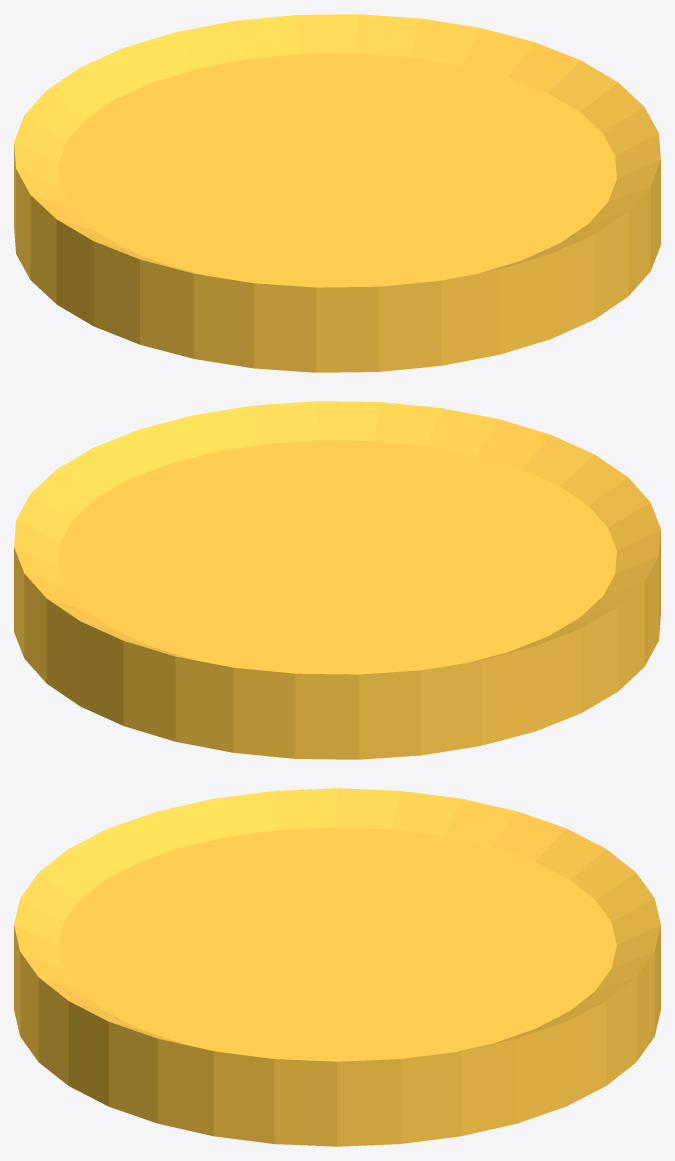
The model's file is Coin.glb.
The picture shows the model from 3 angles, top to bottom: view 1: azimuth 30°, elevation 25°; view 2: azimuth 150°, elevation 25°; view 3: azimuth 270°, elevation 25°; orthographic projection.
Visible parts, largest first — view 1: Cylinder; view 2: Cylinder; view 3: Cylinder.
Boxes of the visible parts, <box> form: Cylinder: <box>14,14,660,372</box>; Cylinder: <box>14,401,660,759</box>; Cylinder: <box>14,788,660,1146</box>.
Size of the model in its own units: 2 by 0.29 by 2.
Materials: 1 (1 with a texture image).
